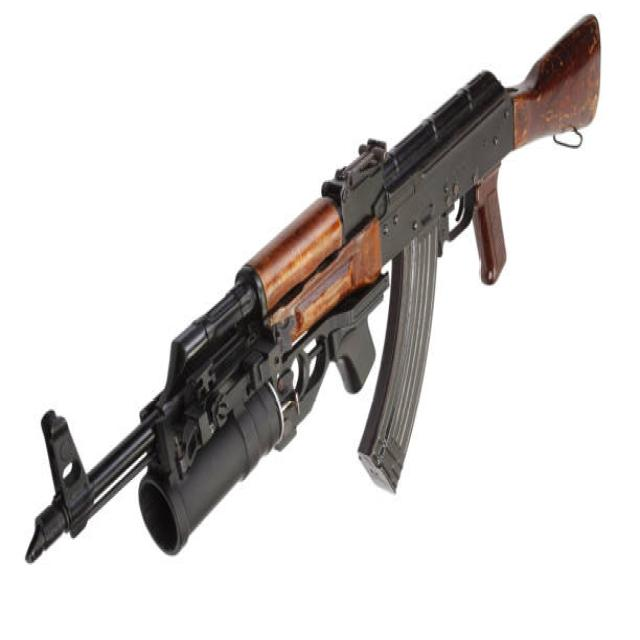rifle: (18, 11, 606, 579)
